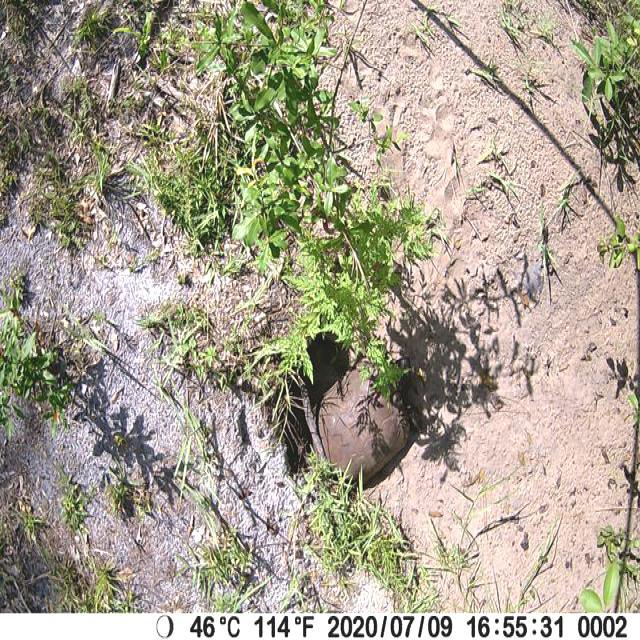tortoise: (308, 358, 421, 490)
